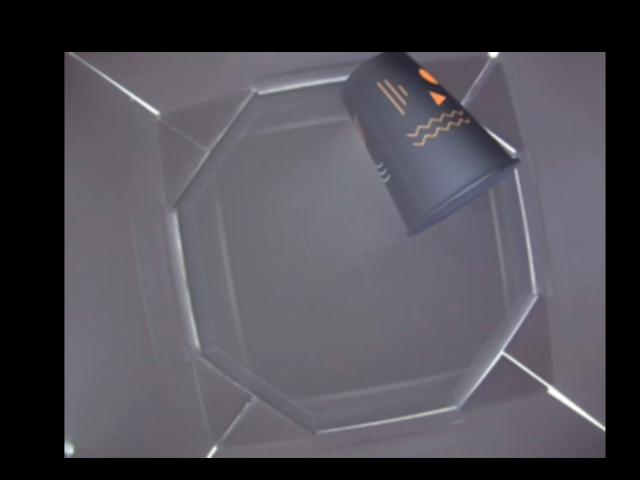Cup: (338, 52, 521, 236)
